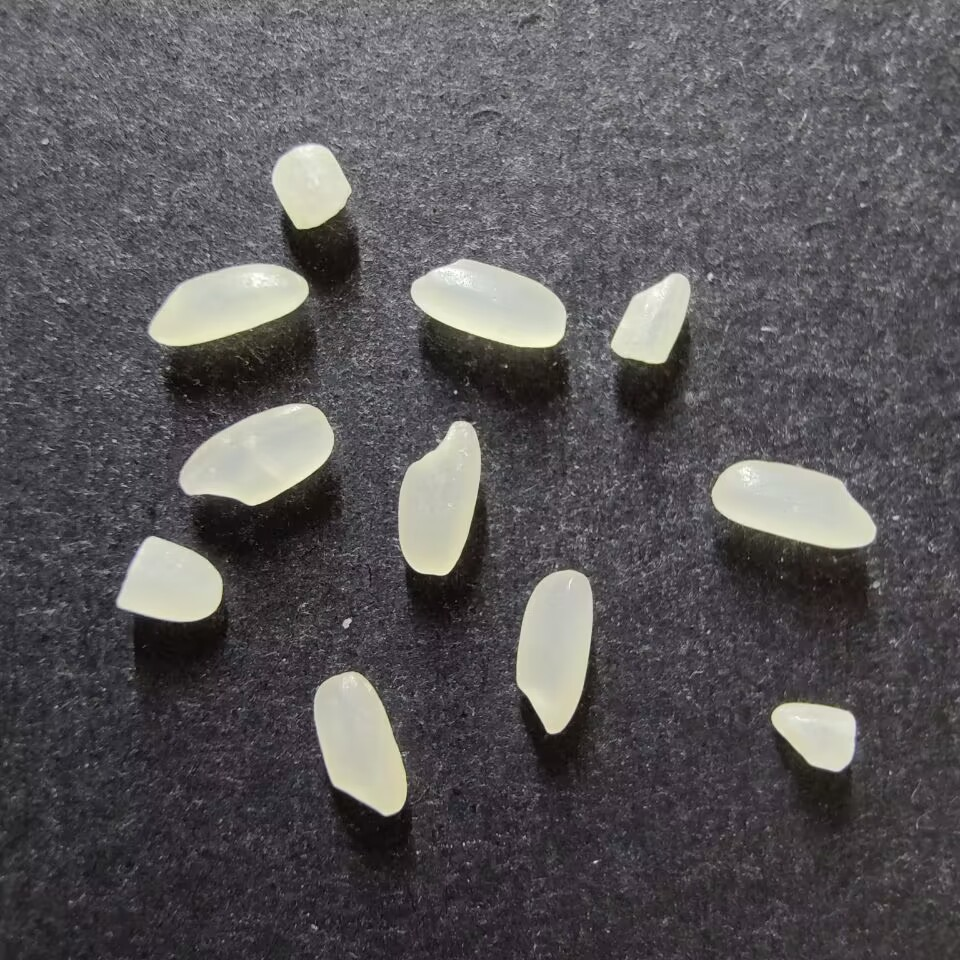broken: (115, 534, 223, 623), (610, 271, 691, 366), (270, 143, 350, 230), (770, 701, 856, 773)
rice: (177, 402, 334, 507), (710, 459, 877, 549), (409, 257, 568, 348), (312, 671, 407, 818), (147, 262, 309, 347), (396, 419, 481, 578), (514, 568, 594, 735)
